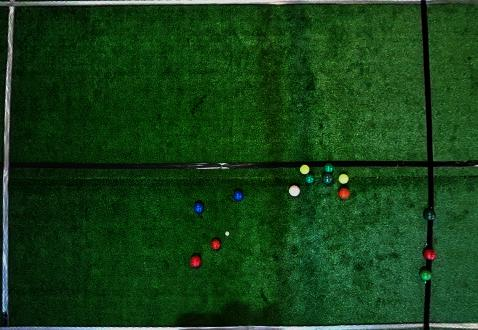blue: (233, 190, 245, 202), (193, 202, 204, 214)
green: (423, 208, 436, 220), (420, 268, 432, 281), (322, 173, 333, 185), (305, 173, 315, 184), (324, 163, 334, 173)
red: (423, 248, 436, 260), (338, 187, 350, 199), (190, 256, 201, 268), (288, 185, 300, 196), (211, 239, 221, 249)
vline: (420, 0, 477, 211), (0, 0, 18, 329), (423, 281, 477, 329), (426, 220, 477, 250)
white: (225, 231, 230, 236)
yellow: (299, 164, 310, 175), (338, 174, 349, 184)
